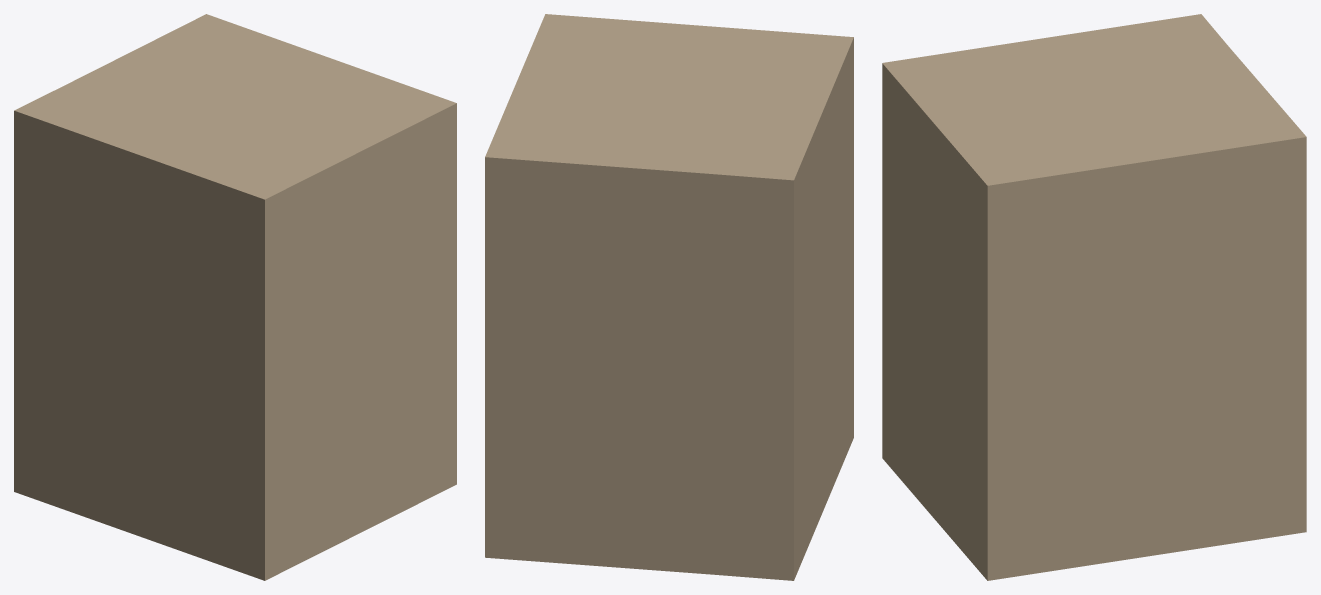
Rendered from bld_106796695.dae.
3 renders of one model, left to right at view 1: azimuth 30°, elevation 25°; view 2: azimuth 150°, elevation 25°; view 3: azimuth 270°, elevation 25°, orthographic. The views are drawn at different scales.
Visible parts, largest first — view 1: bld_106796695; view 2: bld_106796695; view 3: bld_106796695.
Part boxes in pixels (<box>): bld_106796695: <box>14,14,456,580</box>; bld_106796695: <box>485,14,853,580</box>; bld_106796695: <box>882,14,1306,580</box>.
Size of the model in its own units: 7.46 by 7.79 by 8.
